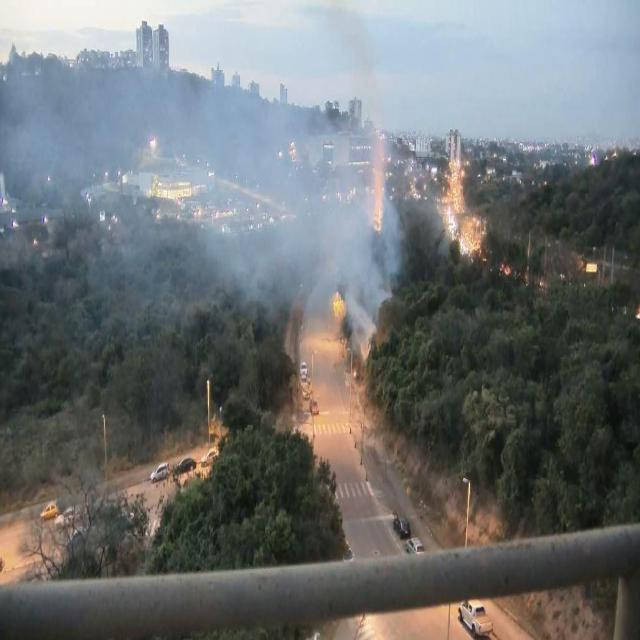Fire: (368, 124, 386, 232), (332, 292, 346, 320)
Smoke: (9, 14, 408, 373)
